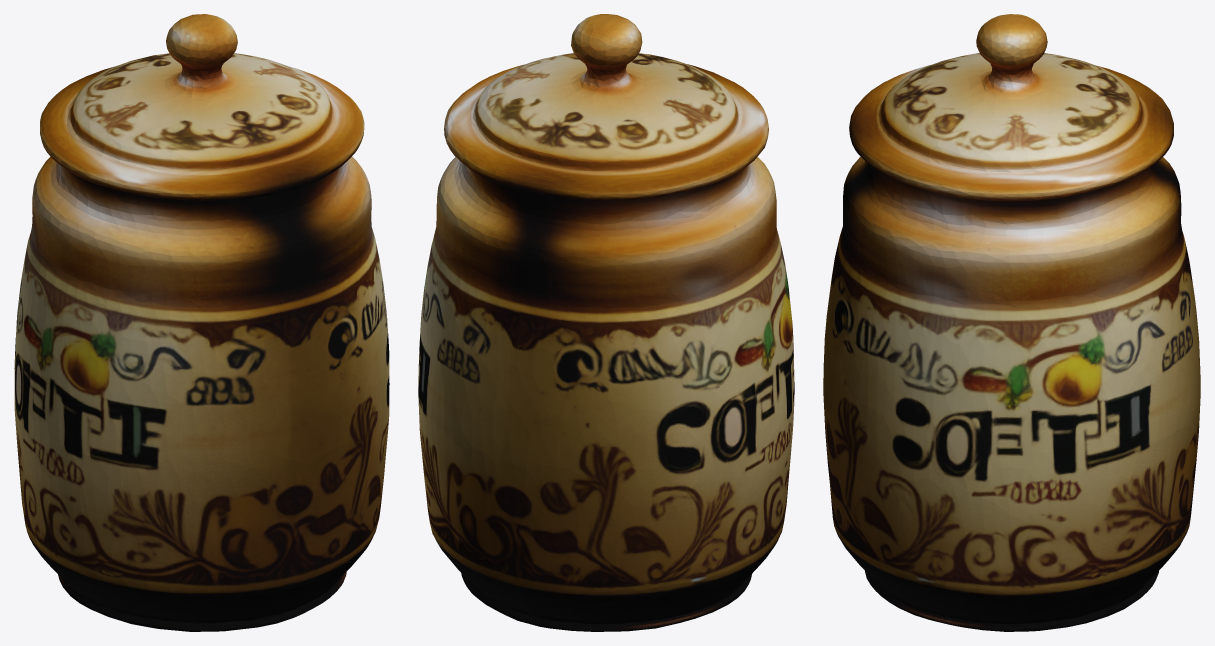
Rendered from ceramic-coffee-canister-used-rustic-worn.jpeg.glb.
3 views of the same model, side by side, from view 1: azimuth 30°, elevation 25°; view 2: azimuth 150°, elevation 25°; view 3: azimuth 270°, elevation 25° (orthographic).
Parts seen in each view (by area): view 1: world; view 2: world; view 3: world.
Boxes of the visible parts, left/top/right/bottom form: world: left=14, top=14, right=389, bottom=631; world: left=418, top=14, right=794, bottom=631; world: left=823, top=14, right=1200, bottom=631.
Bounding box in the file's own units: 0.6116 × 0.9997 × 0.6141.
1 material, 1 textured.
